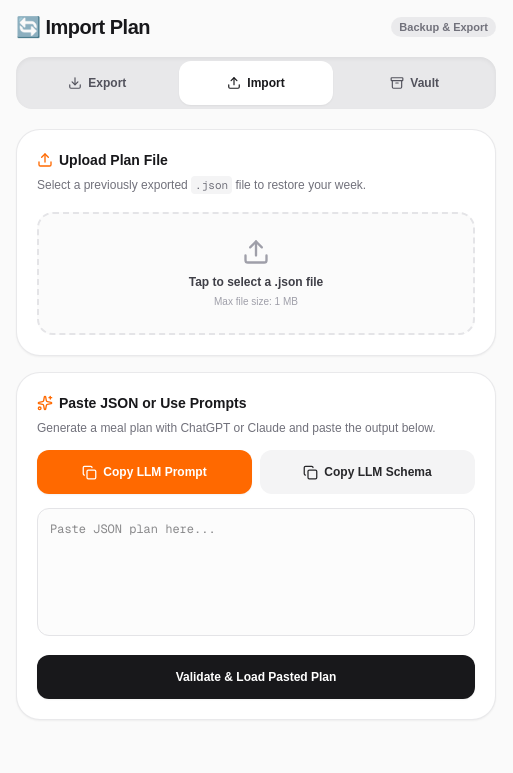
Test: ImportTab (Manage Plan Hub) › switches between export, import, and vault tabs
This screenshot has width=513, height=773.
# Check initial state (maybe export or import is default)
Click the button "Export": (97, 83) [20,61,175,105]
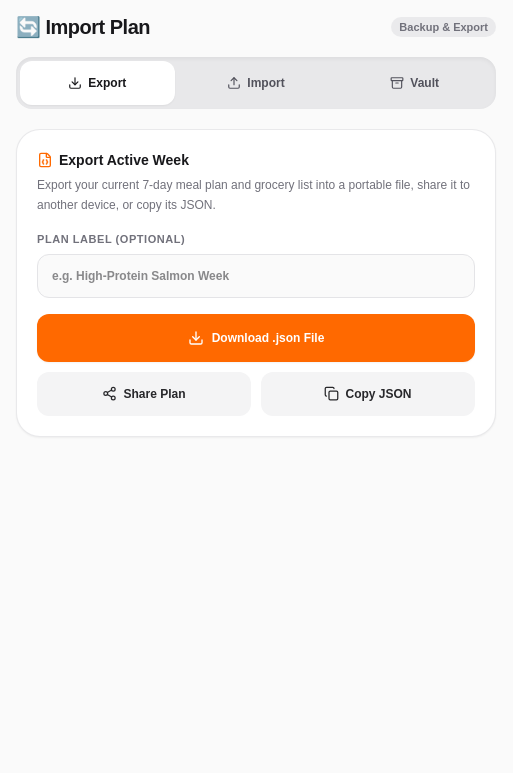
Now the button "Download .json File" is shown, box [37,314,475,362]
Click the button "Import": (256, 83) [179,61,333,105]
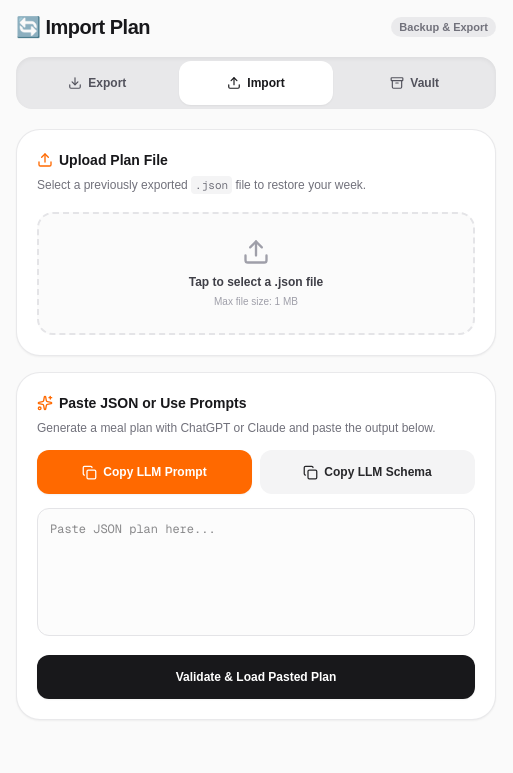
Now the element named "select .json file" is shown, box [37,212,475,334]
Click the button "Vault": (415, 83) [337,61,492,105]
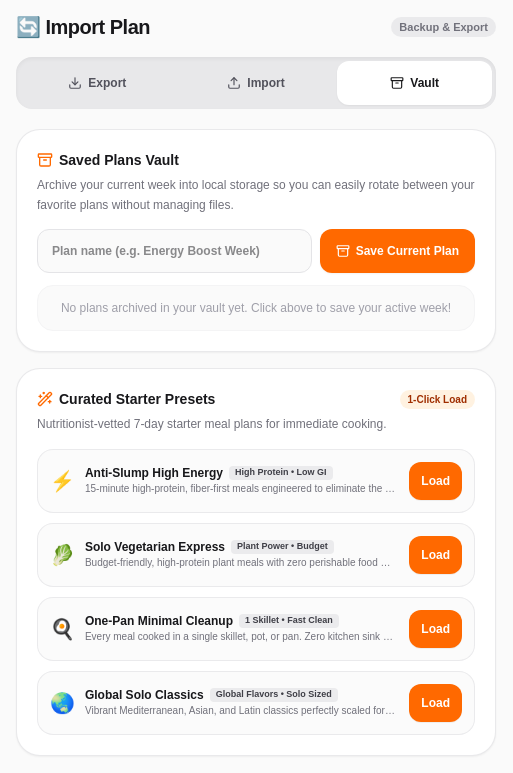
Now the button "Save Current Plan" is shown, box [320,229,475,273]
